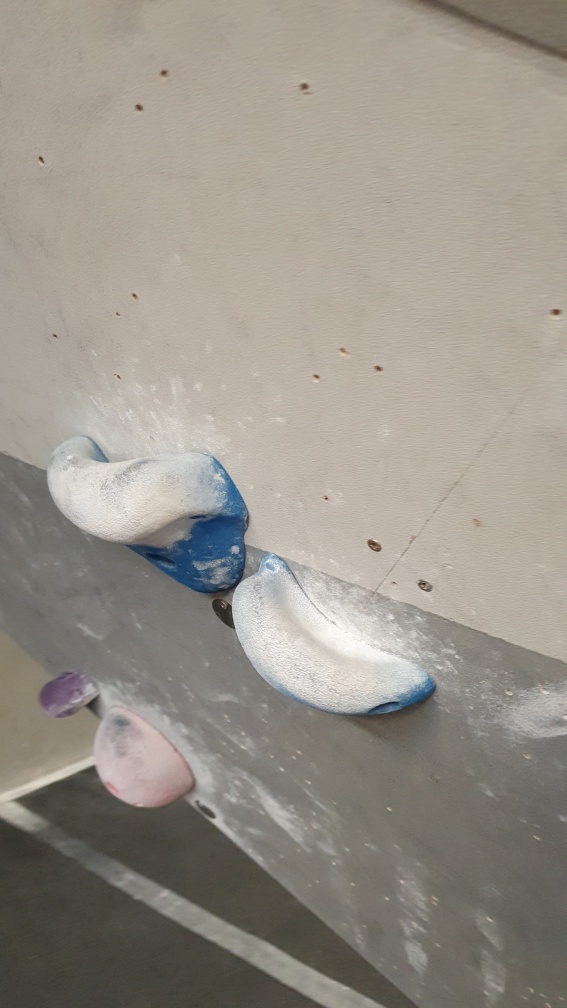Hand Start: (210, 592, 239, 628)
Jug: (33, 432, 253, 597), (225, 553, 434, 717)
Sloper: (91, 701, 201, 816)
